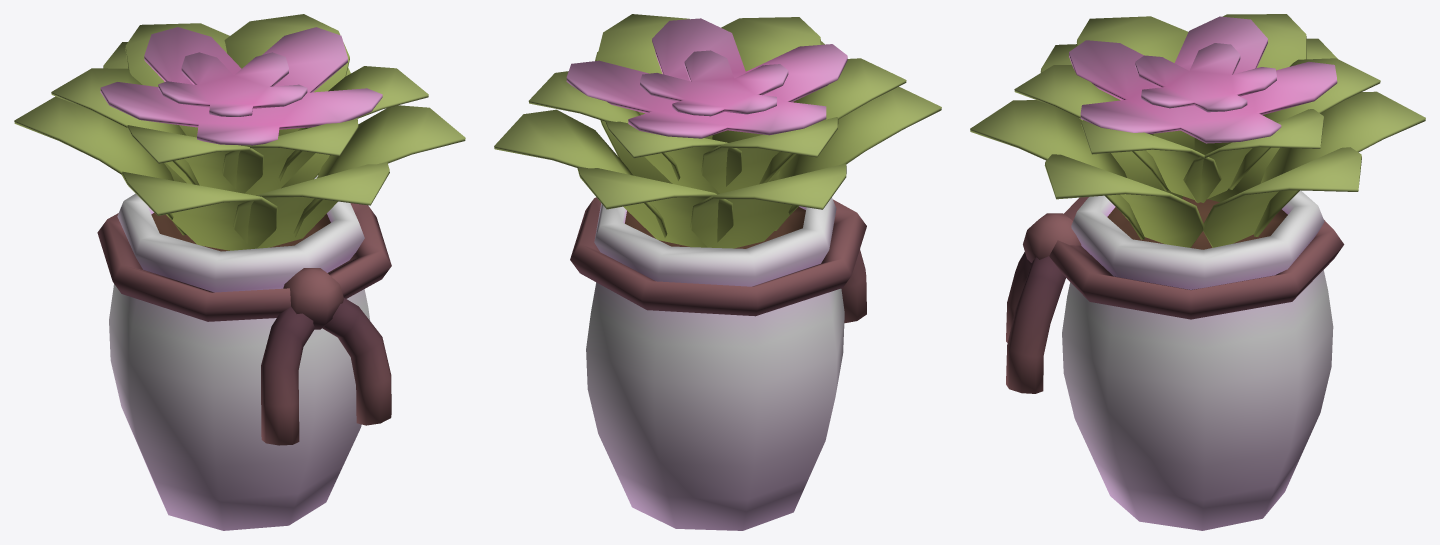
Rendered from cutepack2023plant 1.fbx.
3 views of the same model, side by side, from view 1: azimuth 30°, elevation 25°; view 2: azimuth 150°, elevation 25°; view 3: azimuth 270°, elevation 25° (orthographic).
Visible parts, largest first — view 1: Cylinder.010; view 2: Cylinder.010; view 3: Cylinder.010.
Part boxes in pixels (x1,y1,x2,y2): Cylinder.010: (14, 14, 465, 530); Cylinder.010: (494, 14, 941, 530); Cylinder.010: (970, 14, 1425, 530).
Size of the model in its own units: 96.24 by 119 by 118.
